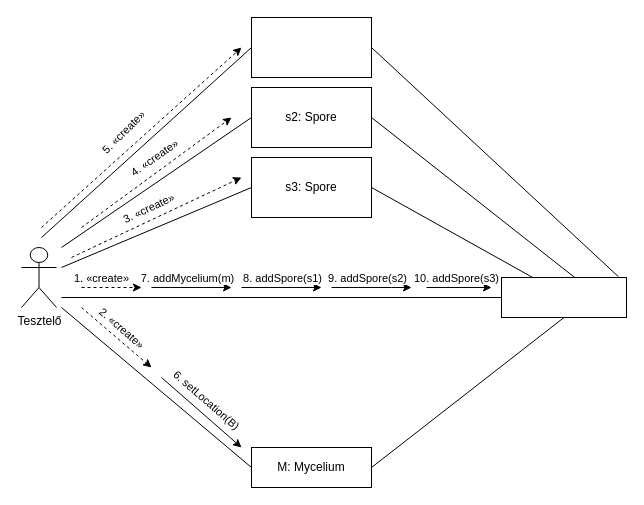
Some shapes in this 644 by 505 pixel diagram are drawn without their labels. The box of each missing label's shape, as (x1, y1, x2, y2) in pixels:
s1: Spore: (250, 16, 372, 78)
T: Tecton: (500, 276, 626, 318)
